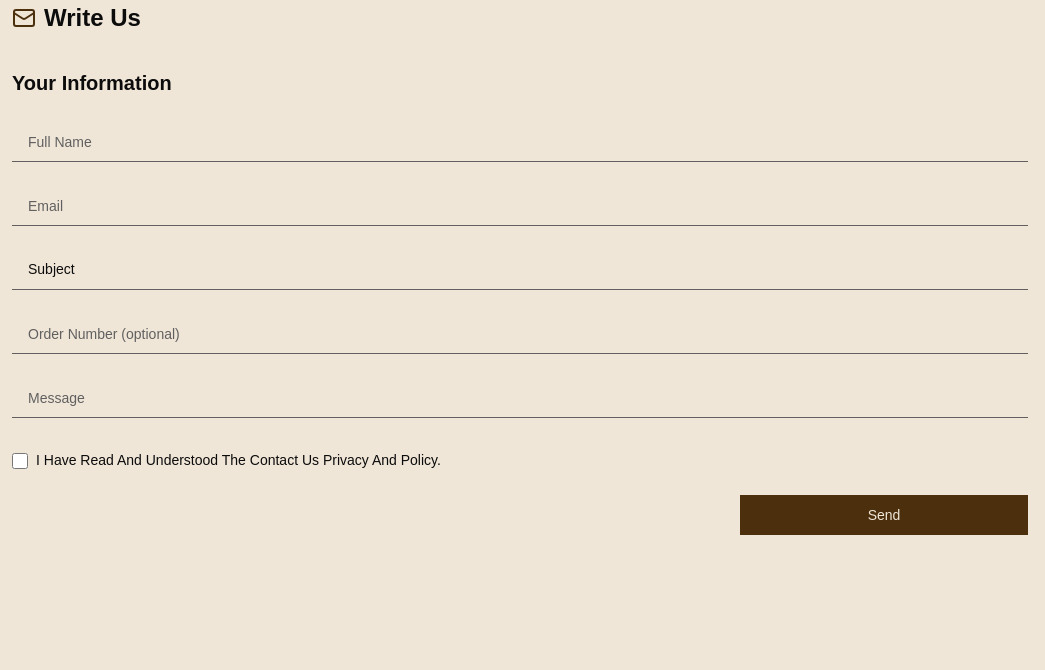
Test: Contact form › shows validation errors on empty submit
This screenshot has width=1045, height=670.
Click the button "Send" at (884, 515), box [740,495,1028,535]
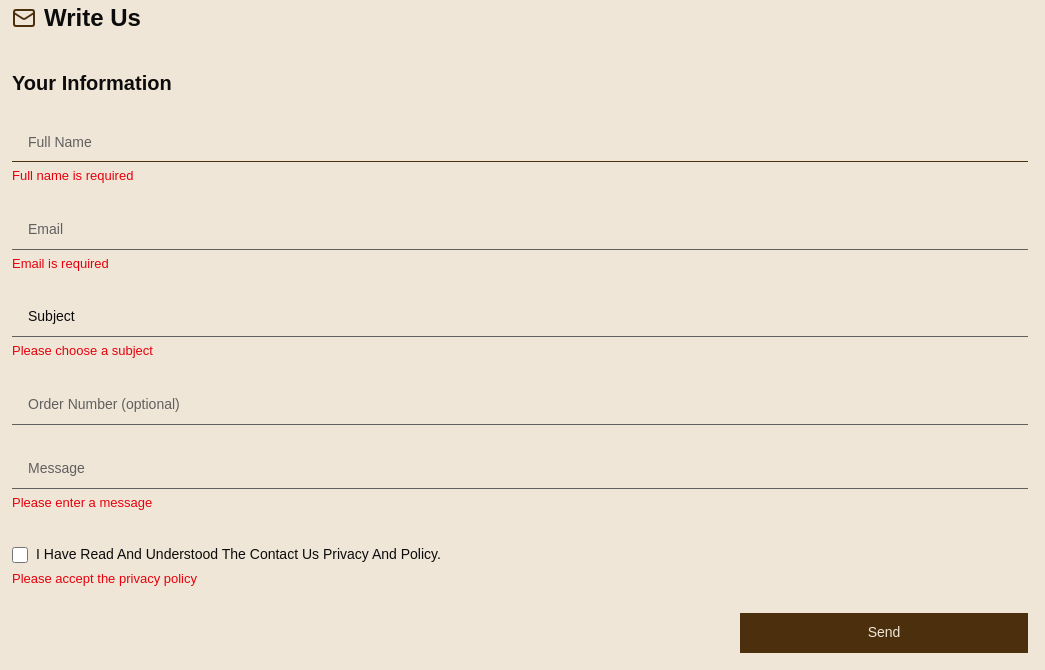
Now the text "Full name is required" is shown, box [12,168,133,183]
Now the text "Email is required" is shown, box [12,256,109,270]
Now the text "Please choose a subject" is shown, box [12,343,153,358]
